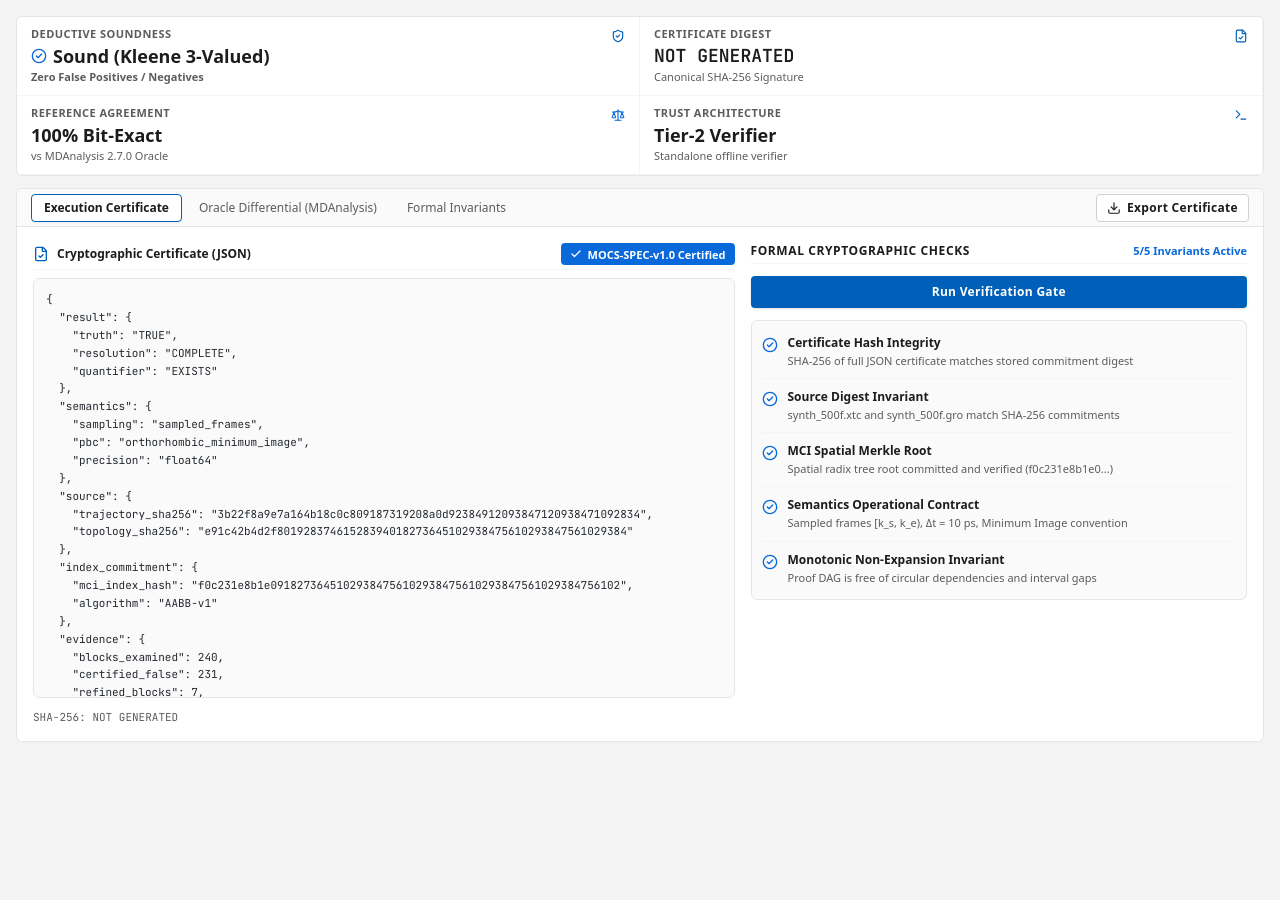
Scenario: Navigation, Routing, View Registration & Documentation Forensic Suite › 5. FormalAuditView Functional Tests › renders audit view with JSON certificate, runs verification gate, and views oracle comparison
The width and height of the screenshot is (1280, 900).
Click the button "Run Verification Gate": (999, 292) 750,276 -> 1247,308
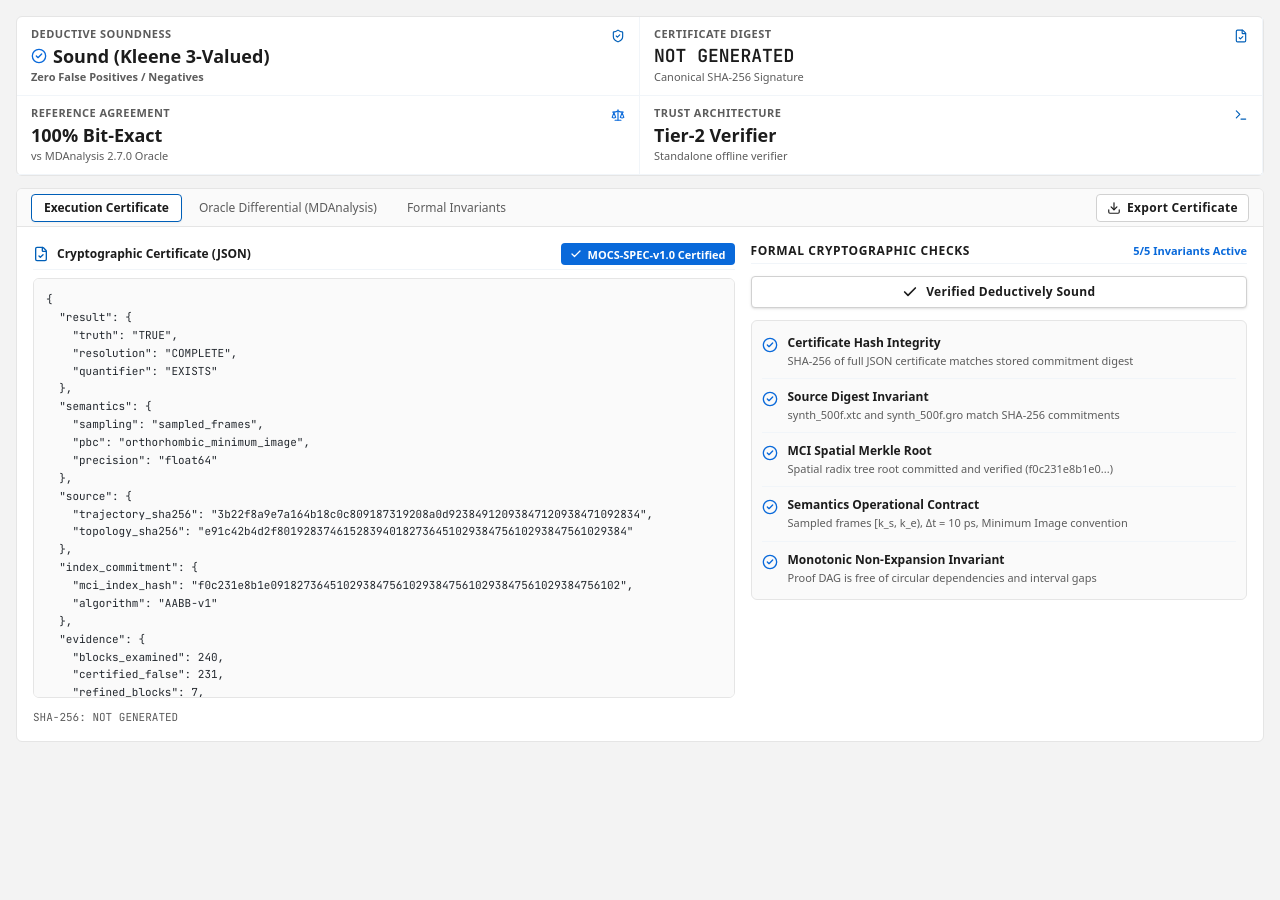
Click the tab "Oracle Differential (MDAnalysis)": (288, 208) 186,194 -> 390,222
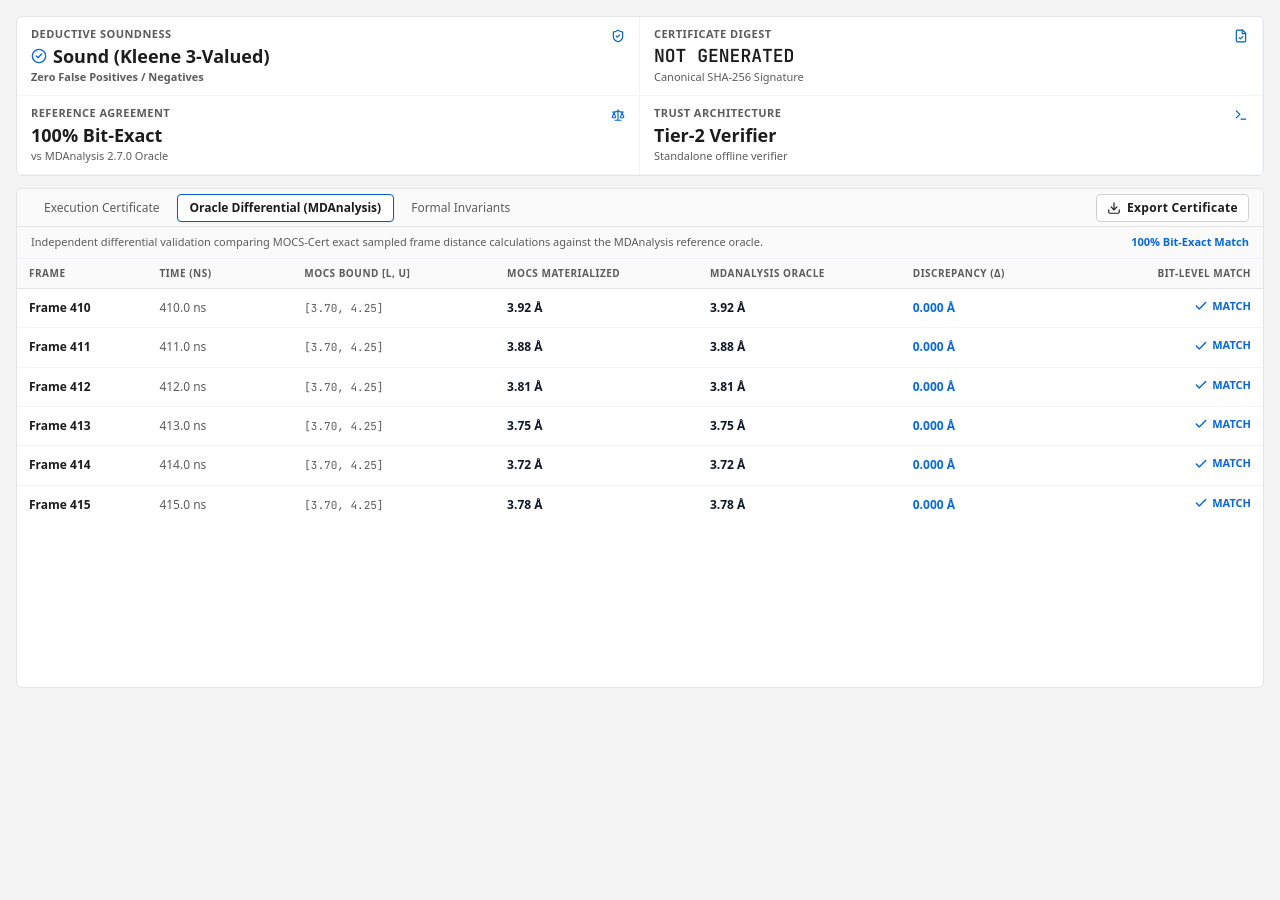
Expected: the text "MDAnalysis Oracle" is shown, 698,259 -> 901,288
Expected: the text "0.000 Å" is shown, 913,299 -> 955,316
